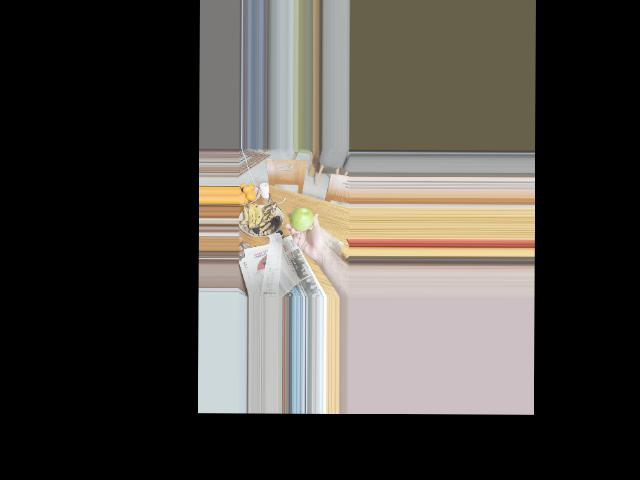apple: (290, 206, 313, 231)
